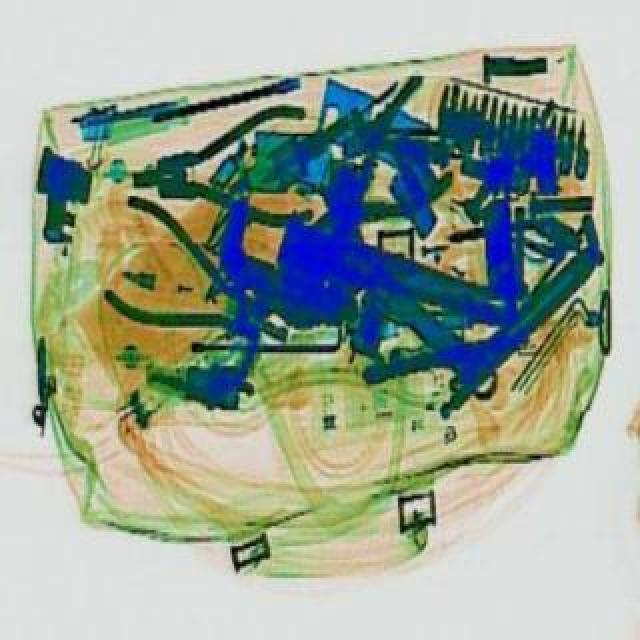scissors: (260, 204, 524, 430)
wrench: (74, 196, 318, 392), (282, 74, 504, 284), (130, 110, 322, 246)
